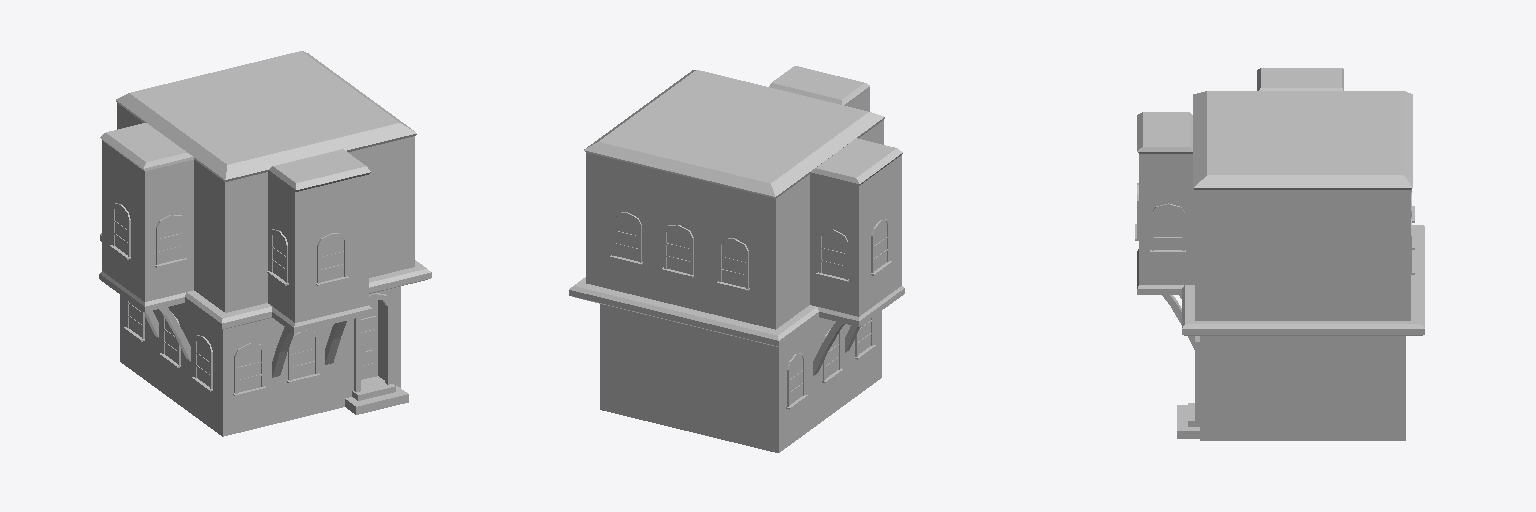
The model's file is house.obj.
The picture shows the model from 3 angles: view 1: azimuth 30°, elevation 25°; view 2: azimuth 150°, elevation 25°; view 3: azimuth 270°, elevation 25°; orthographic projection.
Visible parts, largest first — view 1: Kleines_Haus_Jody; view 2: Kleines_Haus_Jody; view 3: Kleines_Haus_Jody.
Boxes of the visible parts, x1,y1,x2,y2 form: Kleines_Haus_Jody: [99, 51, 431, 436]; Kleines_Haus_Jody: [569, 66, 904, 452]; Kleines_Haus_Jody: [1135, 68, 1424, 440].
Bounding box in the file's own units: 1.07 × 1.07 × 1.06.